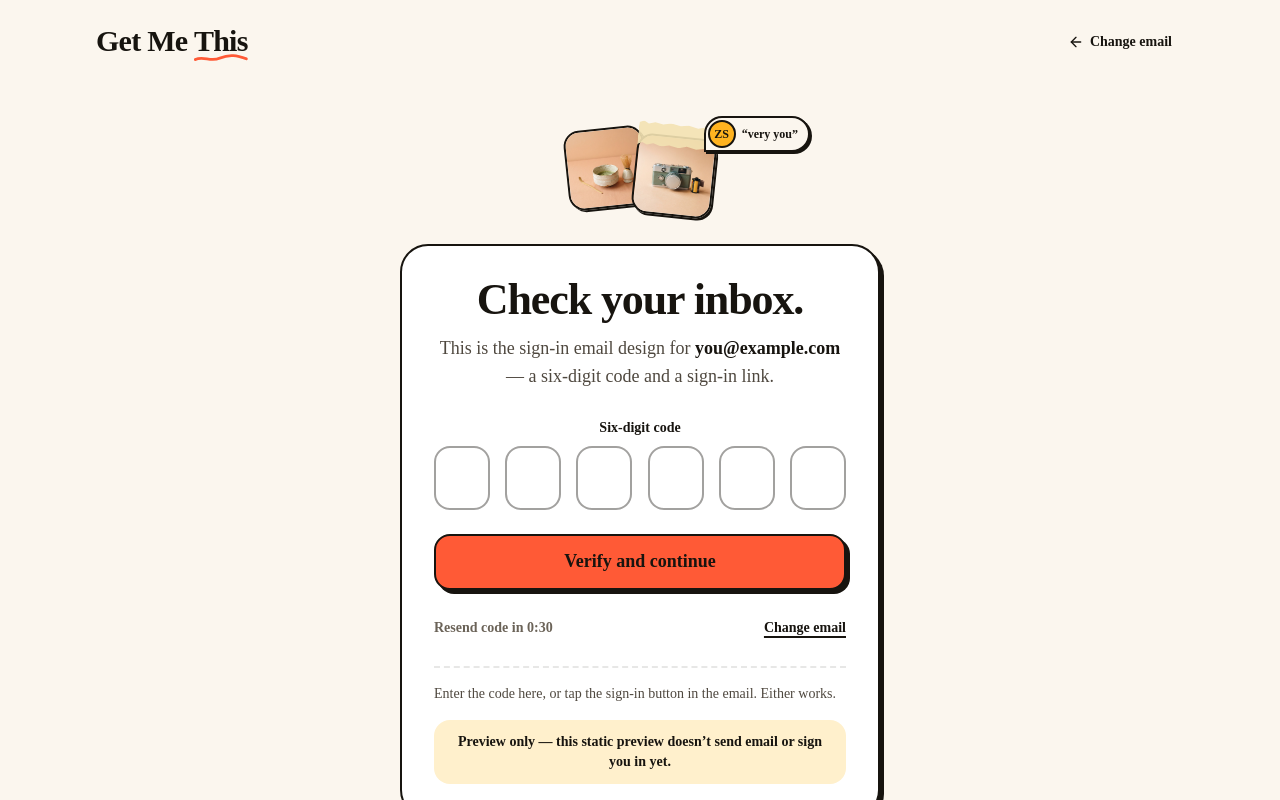
VerifyScreen › shows the designed short-code error for an incomplete submission
Click the button "Verify and continue": point(640, 562) [434, 534, 846, 590]
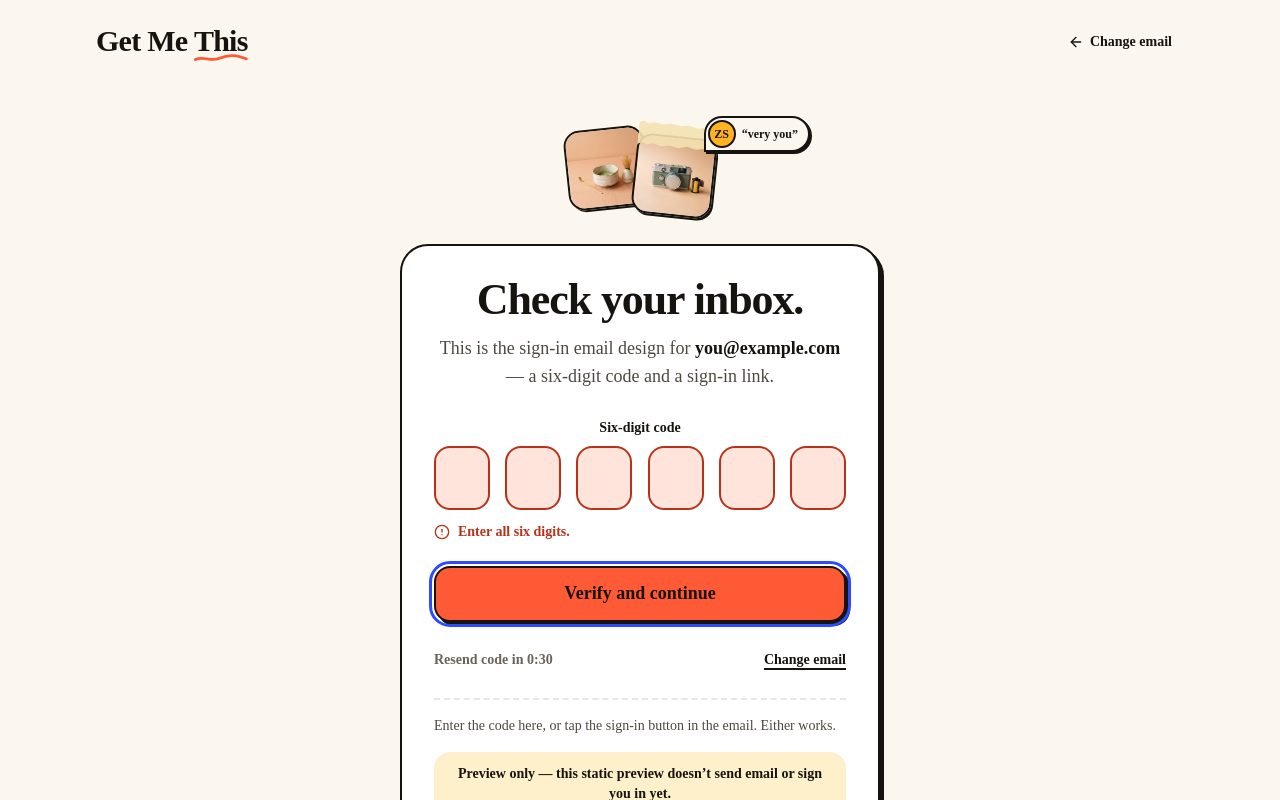
expect the message "Enter all six digits." is shown: met, box [434, 524, 570, 540]
